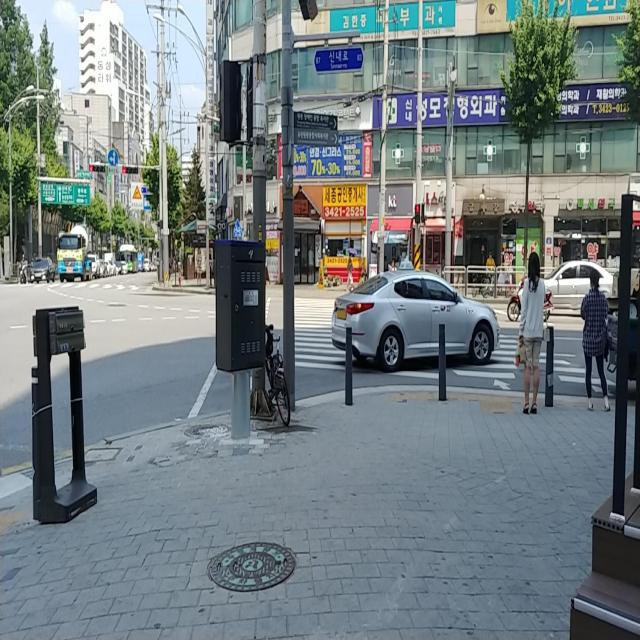빨간불: (413, 202, 421, 225)
횡단보도: (293, 295, 600, 392)
